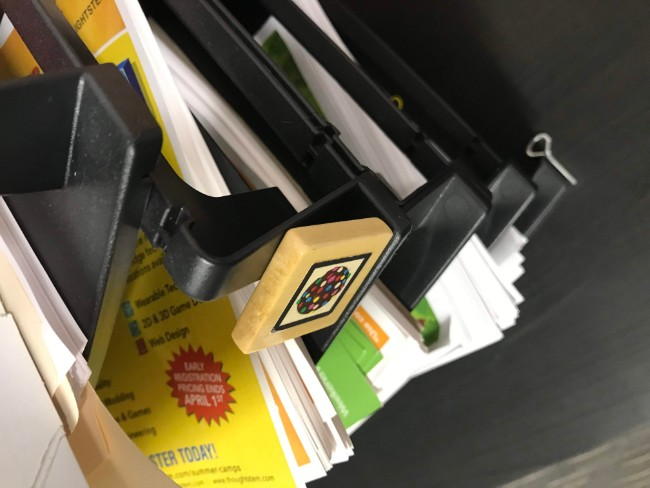cookie: (269, 245, 377, 331)
